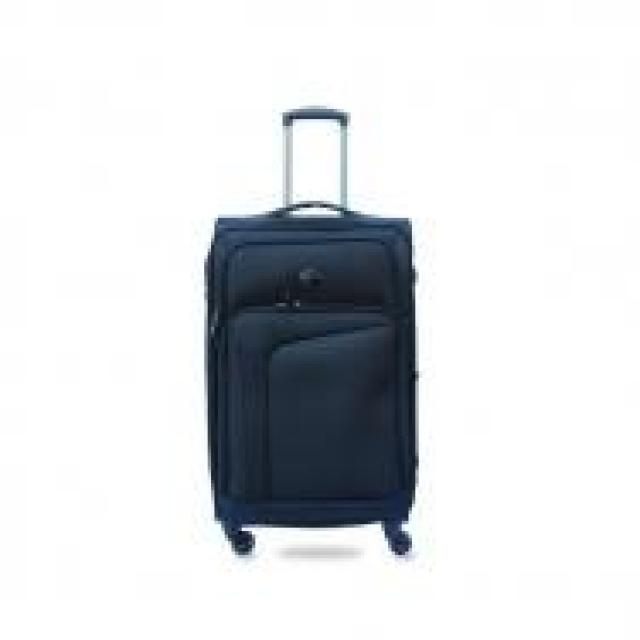luggage: (198, 194, 424, 555)
